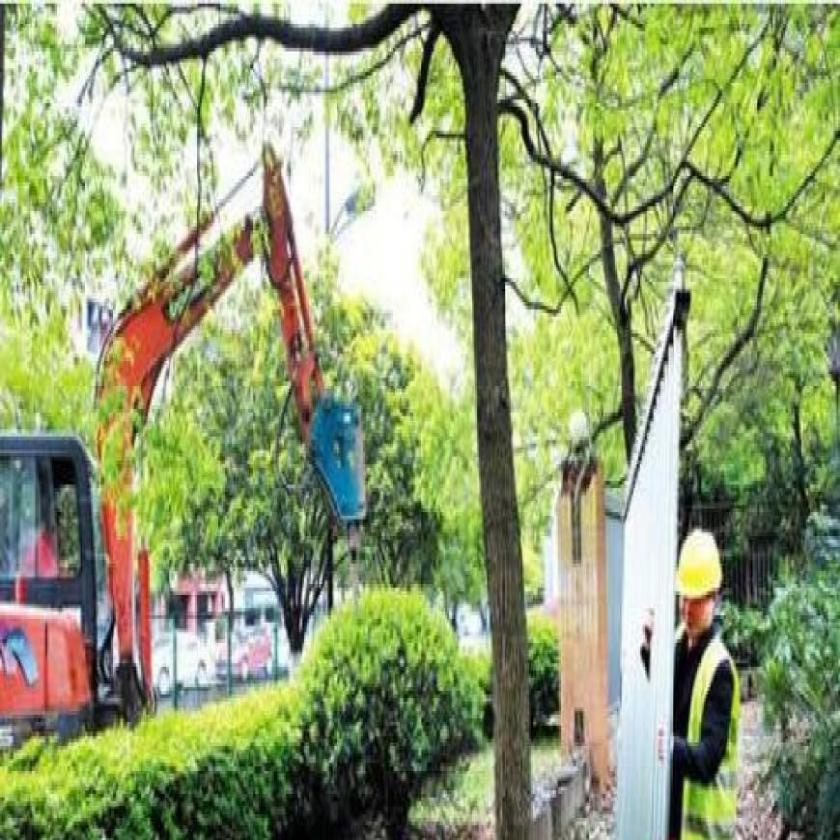Con_casco: (672, 528, 724, 648)
